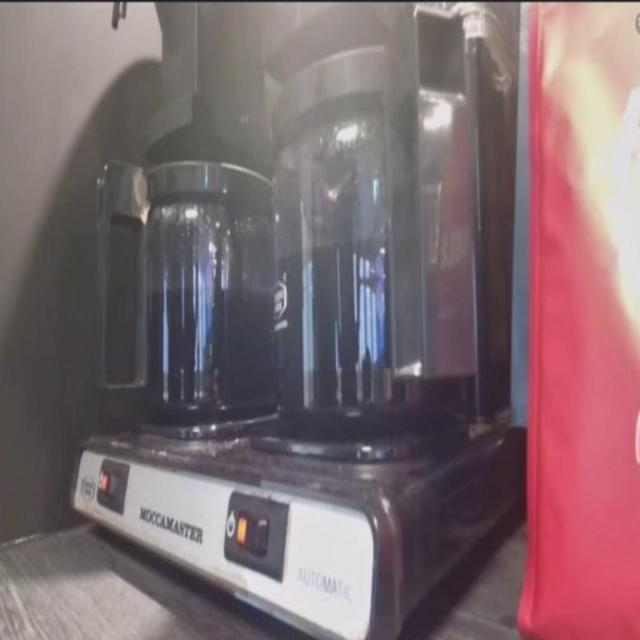coffee: (276, 163, 447, 425), (147, 222, 270, 416)
